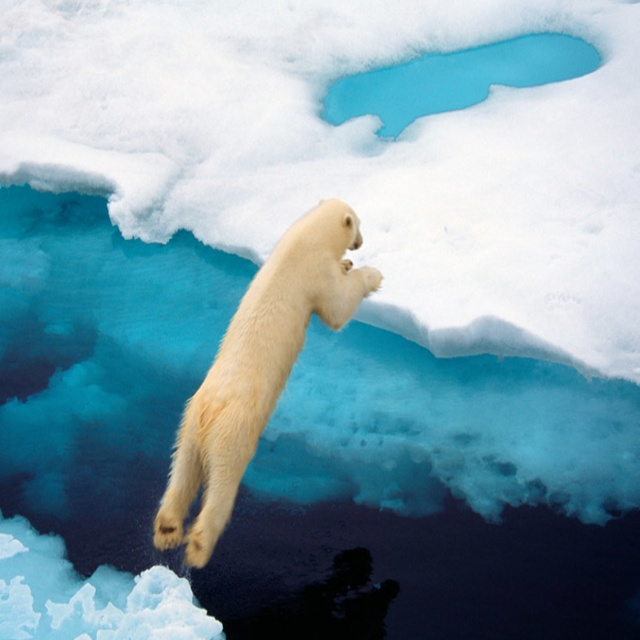Polar bear: (146, 195, 386, 573)
